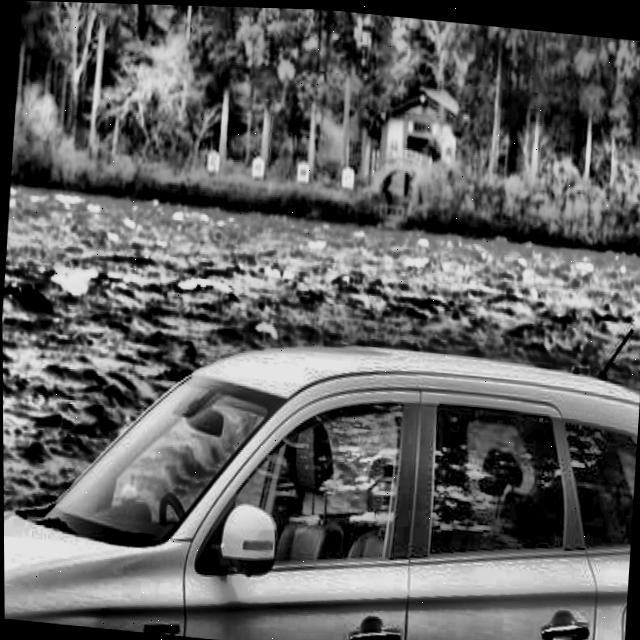light_vehicle: (2, 301, 640, 640)
